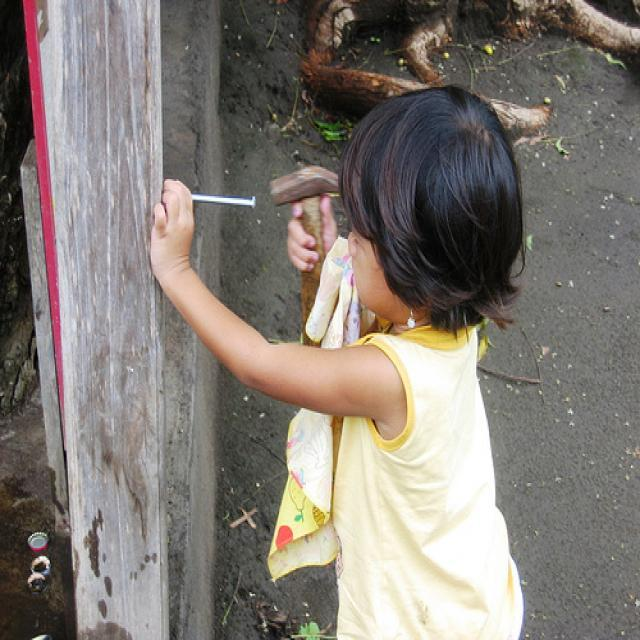hammer: (256, 154, 356, 386)
